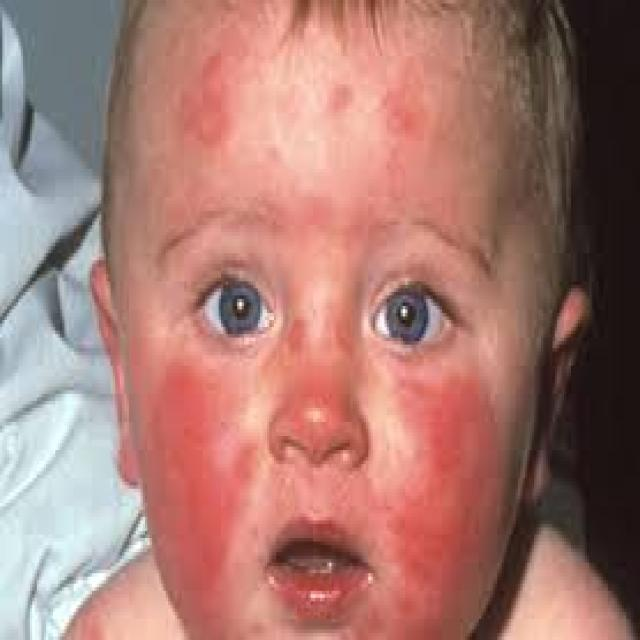Rosacea: (364, 368, 514, 640), (126, 348, 262, 638), (328, 61, 436, 210), (277, 291, 372, 452), (173, 42, 240, 154)
